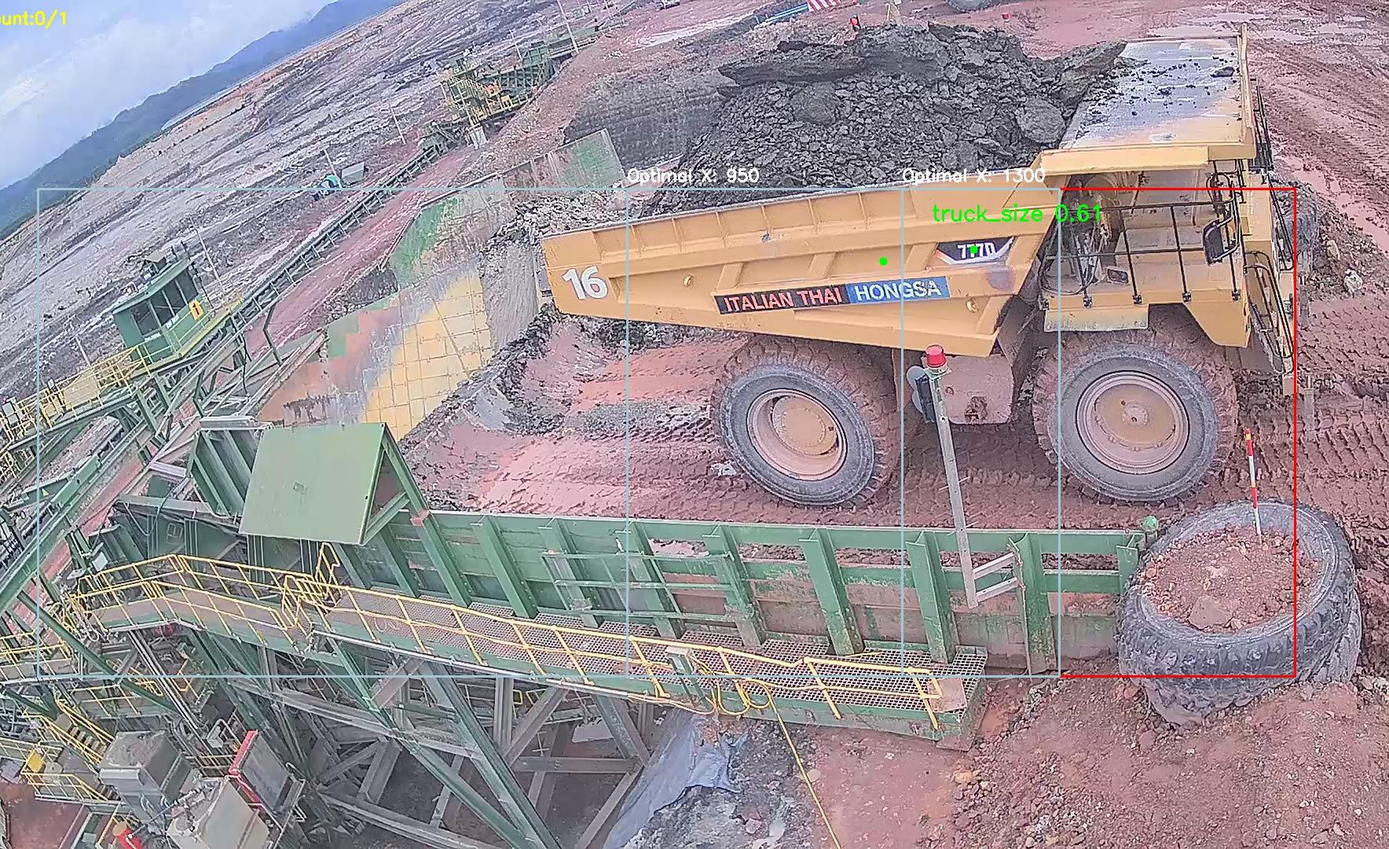company: (698, 267, 962, 325)
full_load: (678, 20, 1102, 200)
mining_truck: (532, 7, 1304, 505)
tail_number: (551, 258, 620, 314)
truck_size: (927, 222, 1022, 264)
